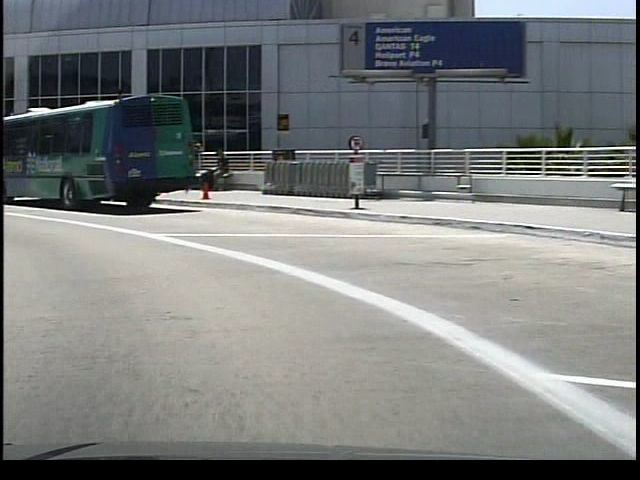person: (202, 145, 229, 193)
